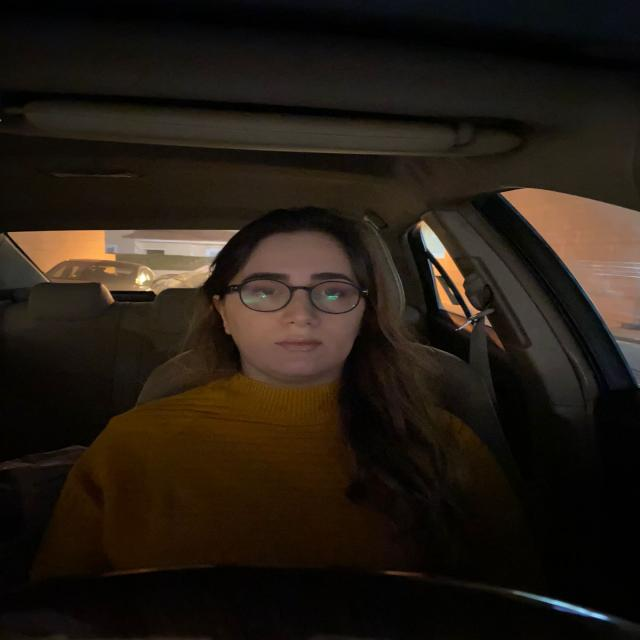person: (210, 223, 384, 383)
